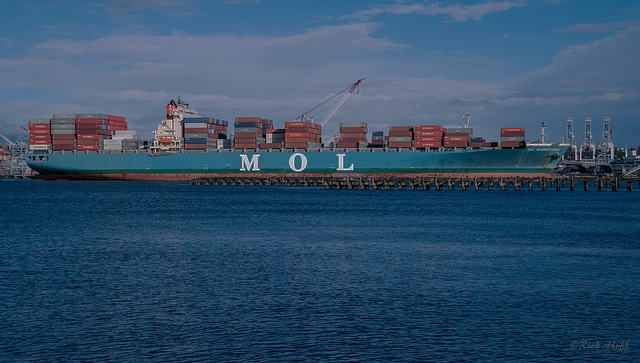container_ship: (26, 98, 563, 180)
